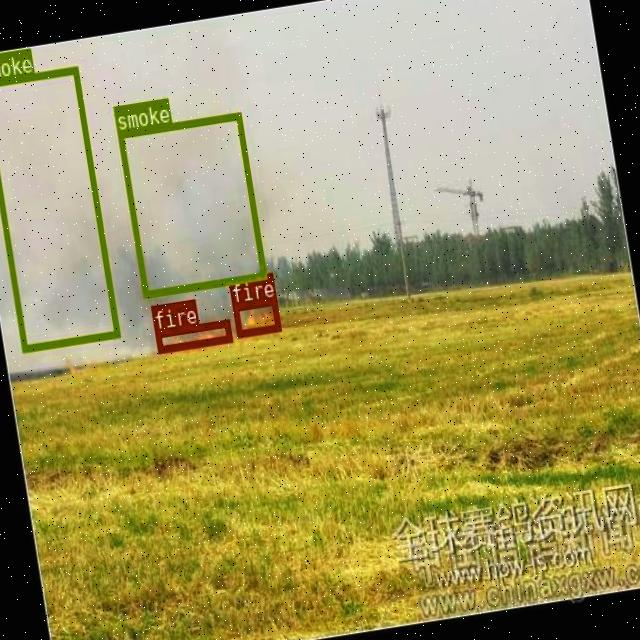fire: (154, 319, 232, 352), (231, 297, 280, 336)
smoke: (0, 66, 119, 351), (116, 111, 266, 298)
